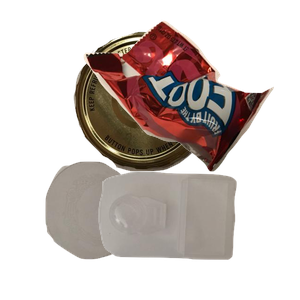glass: (43, 159, 187, 300)
metal: (71, 29, 276, 193)
plastic: (96, 169, 300, 300)
trash: (81, 18, 300, 182)
